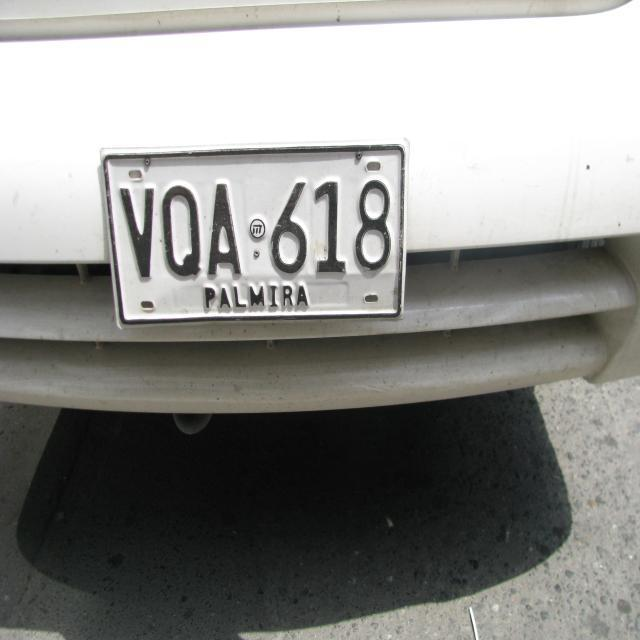placa: (98, 140, 414, 332)
